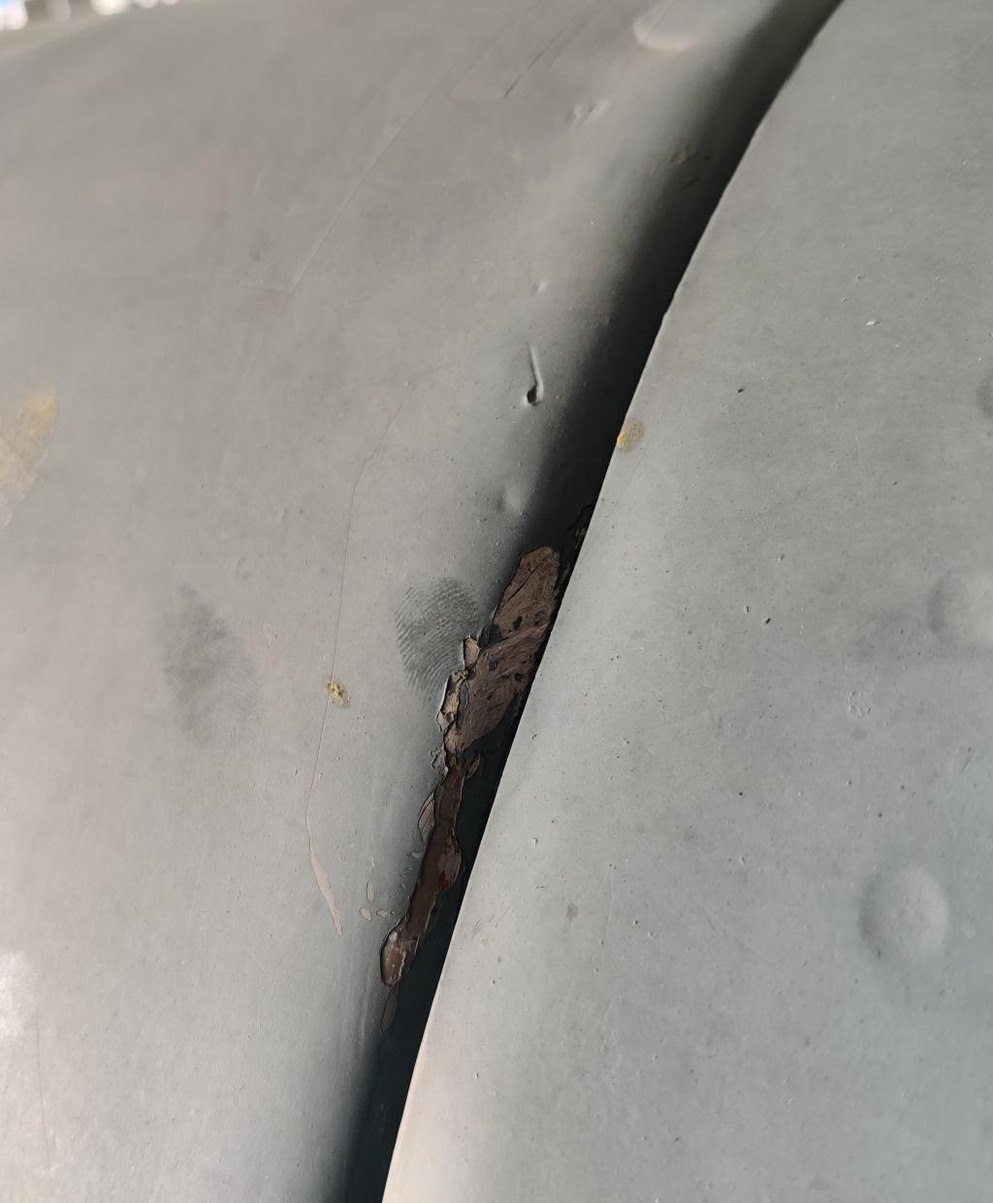corrosion: (369, 553, 561, 992)
